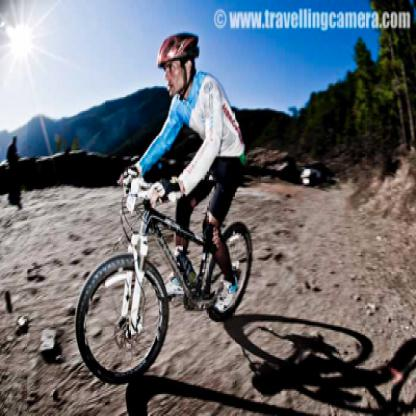With Helmet: (156, 28, 200, 88)
